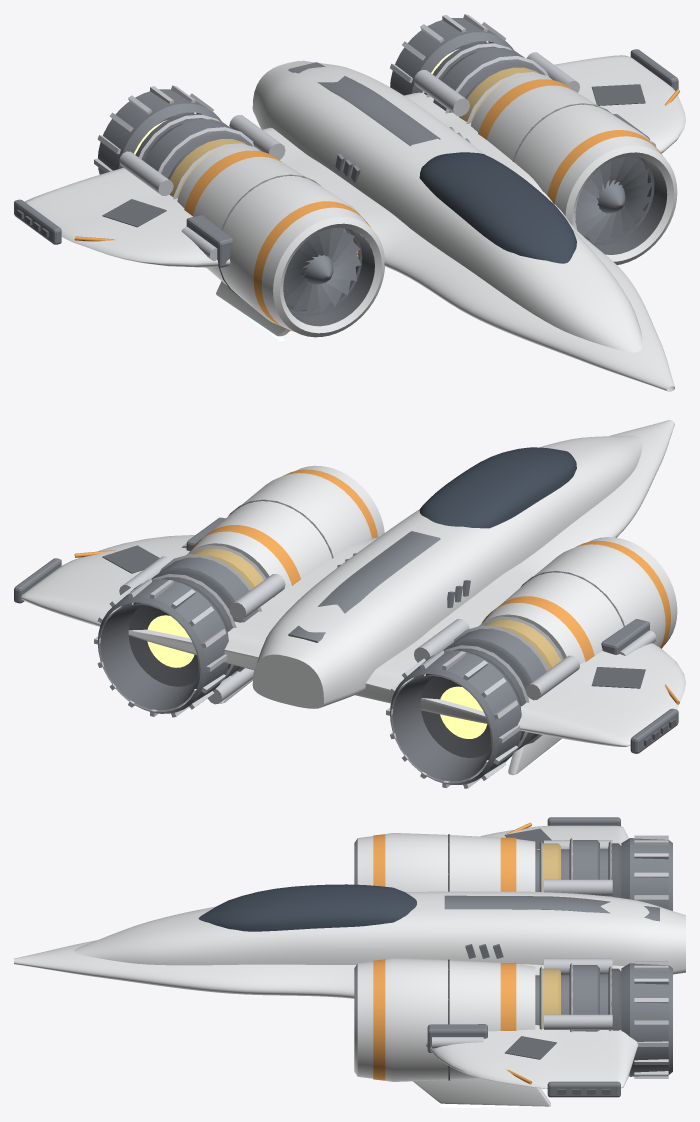
Rendered from bulwark.glb.
The picture shows the model from 3 angles, top to bottom: view 1: azimuth 30°, elevation 25°; view 2: azimuth 150°, elevation 25°; view 3: azimuth 270°, elevation 25°; orthographic projection. The views are drawn at different scales.
Parts seen in each view (by area): view 1: body, hump, can, canopy, fan, nozzle, stage.001, duct, hump_strip, can_band, canister.001, can_band2 (+12 smaller); view 2: body, hump, can, liner, nozzle, canopy, stage.001, hump_strip, hot, can_band2, canister.001, stage (+11 smaller); view 3: hump, can, body, canopy, nozzle, ventral, stage.001, hump_strip, can_band, can_band2, canister.001, core (+7 smaller).
Boxes of the visible parts, x1,y1,x2,y2 form: body: [25, 55, 685, 391]; hump: [252, 60, 642, 352]; can: [177, 75, 677, 337]; canopy: [419, 152, 576, 263]; fan: [283, 156, 653, 315]; nozzle: [98, 18, 514, 174]; stage.001: [145, 48, 544, 178]; duct: [283, 156, 667, 326]; hump_strip: [288, 62, 440, 146]; can_band: [253, 130, 662, 331]; canister.001: [229, 70, 469, 159]; can_band2: [184, 79, 573, 267]; body: [21, 420, 685, 746]; hump: [252, 435, 642, 708]; can: [190, 465, 677, 664]; liner: [100, 602, 492, 781]; nozzle: [97, 579, 521, 784]; canopy: [419, 447, 576, 528]; stage.001: [151, 557, 546, 750]; hump_strip: [288, 531, 440, 642]; hot: [147, 615, 487, 738]; can_band2: [189, 525, 594, 661]; canister.001: [229, 574, 469, 662]; stage: [192, 548, 561, 669]; hump: [74, 891, 685, 974]; can: [354, 833, 535, 1081]; body: [14, 825, 638, 1088]; canopy: [198, 884, 416, 931]; nozzle: [621, 838, 672, 1076]; ventral: [413, 1078, 550, 1106]; stage.001: [569, 840, 599, 1031]; hump_strip: [444, 895, 659, 921]; can_band: [373, 834, 385, 1080]; can_band2: [500, 837, 516, 1030]; canister.001: [544, 879, 612, 974]; core: [535, 848, 608, 1025].
Bounding box in the file's own units: 7.41 × 1.94 × 7.8.
